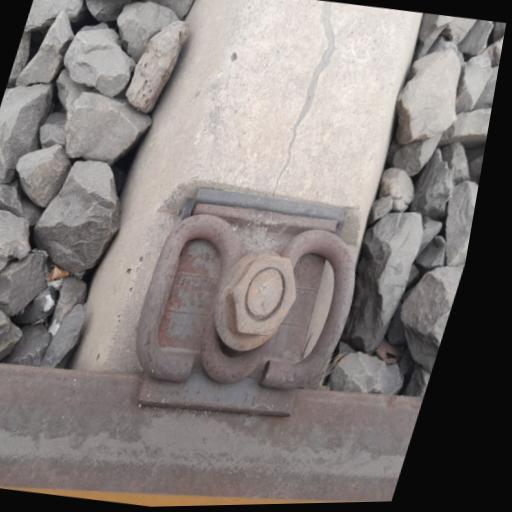bolt: (198, 226, 327, 361)
clip: (121, 197, 395, 418)
